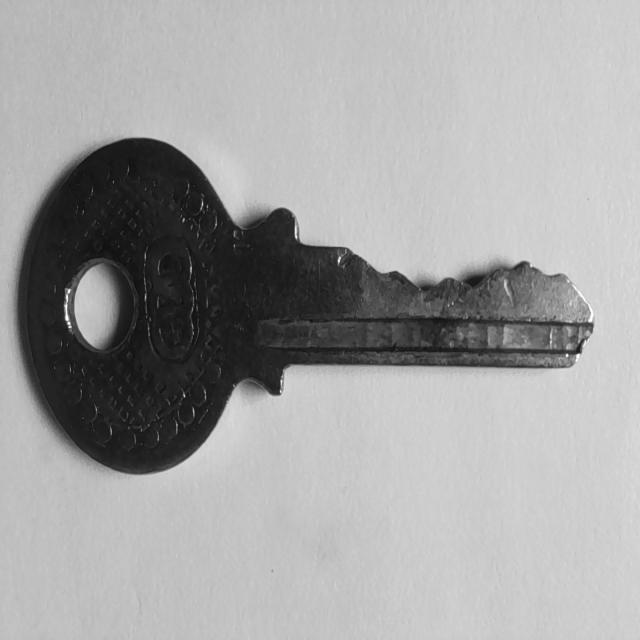KEY: (24, 138, 594, 473)
